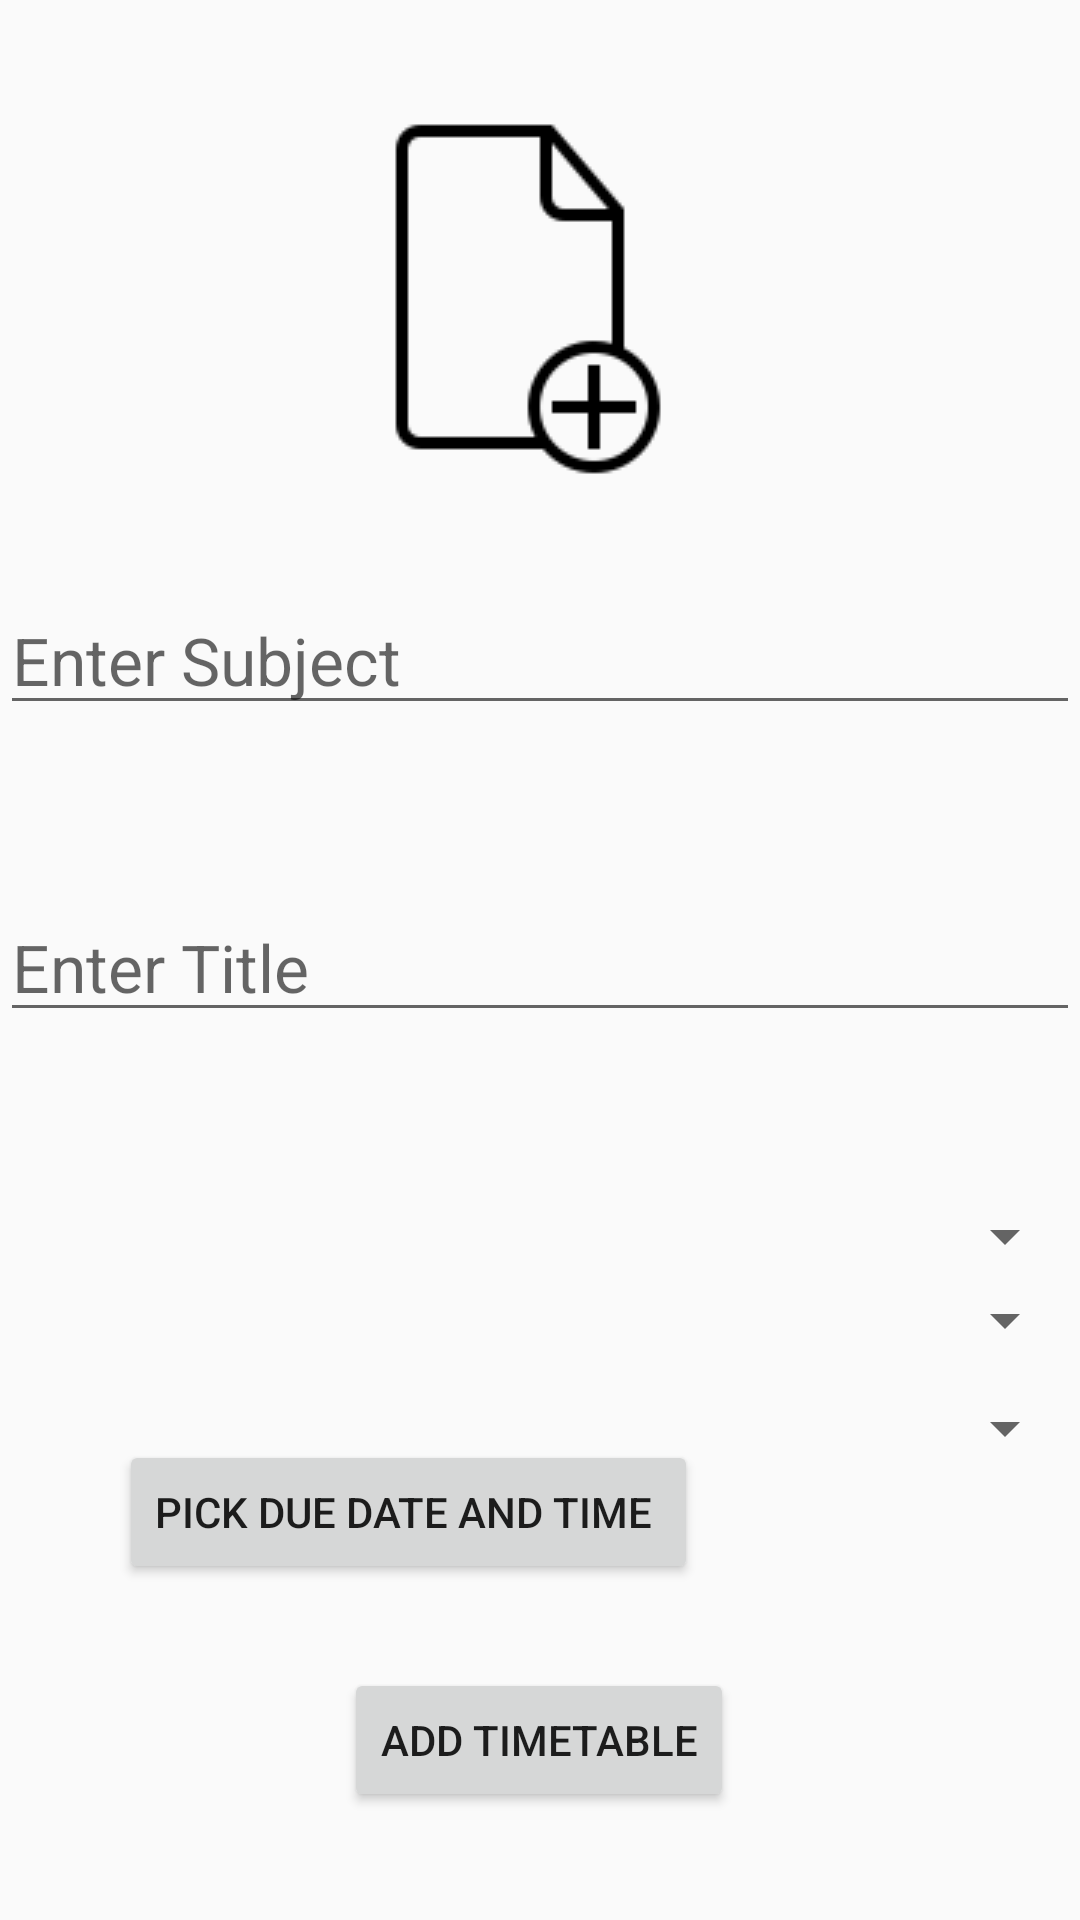

Point at icon controls on the screen. Image size 1080 x 1920, points as point (x, y).
browsepdf: point (528, 299)
